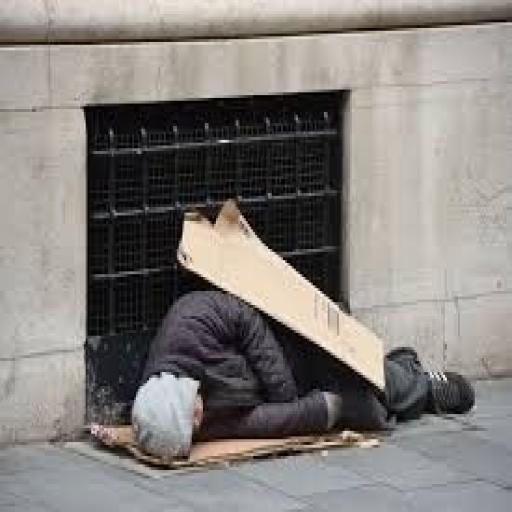sleeping: (126, 285, 476, 462)
